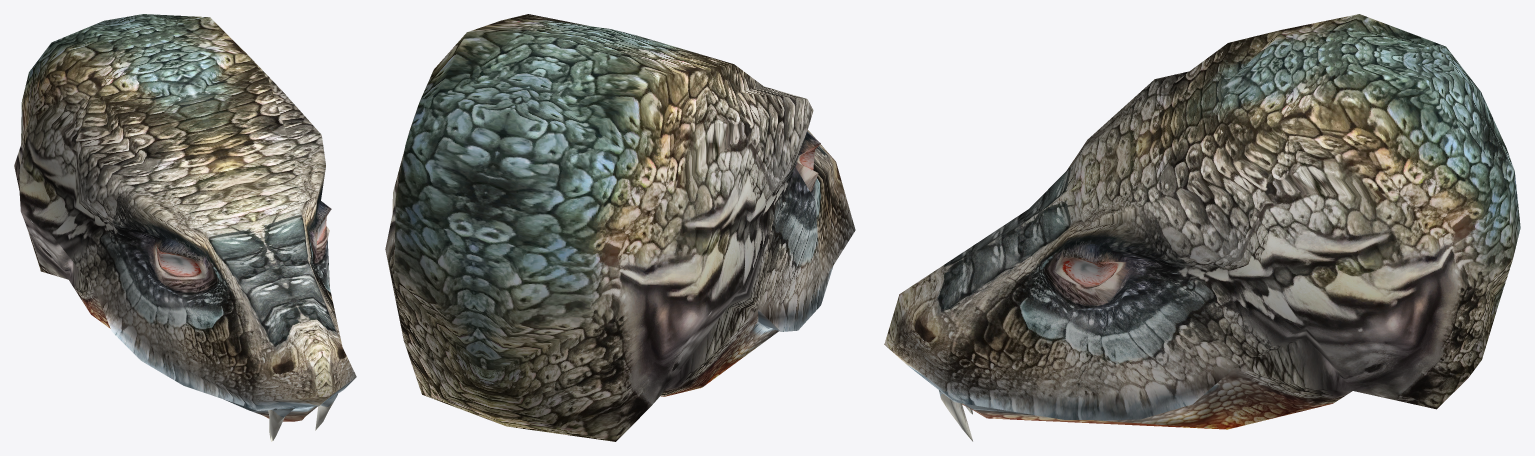
The model's file is b_v_argonian_m_head_01.glb.
3 views of the same model, side by side, from view 1: azimuth 30°, elevation 25°; view 2: azimuth 150°, elevation 25°; view 3: azimuth 270°, elevation 25° (orthographic). The views are drawn at different scales.
Parts seen in each view (by area): view 1: Tri B_V_Argonian_M_Head_01; view 2: Tri B_V_Argonian_M_Head_01; view 3: Tri B_V_Argonian_M_Head_01.
Boxes of the visible parts, left/top/right/bottom form: Tri B_V_Argonian_M_Head_01: left=14, top=14, right=356, bottom=441; Tri B_V_Argonian_M_Head_01: left=385, top=14, right=855, bottom=441; Tri B_V_Argonian_M_Head_01: left=884, top=14, right=1520, bottom=441.
Bounding box in the file's own units: 0.0988 × 0.1259 × 0.1909.
Materials: 1 (1 with a texture image).
